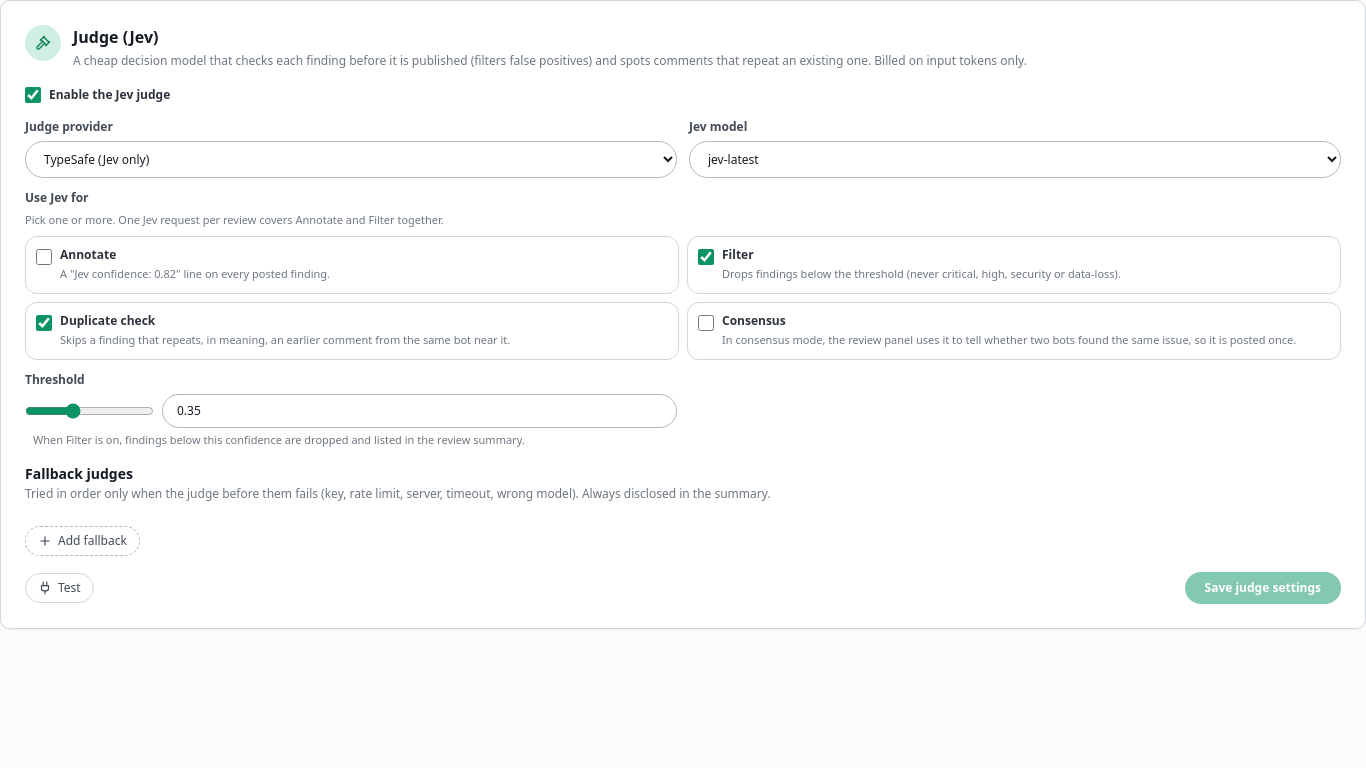
Test: JudgeCard (Jev) › offers only Jev models for the chosen provider, and only providers with a key plus the Jev-only types
Select "OpenCode Zen" in the dropdown labelled "Judge provider" at {"x": 351, "y": 159}, box left=25, top=140, right=677, bottom=178
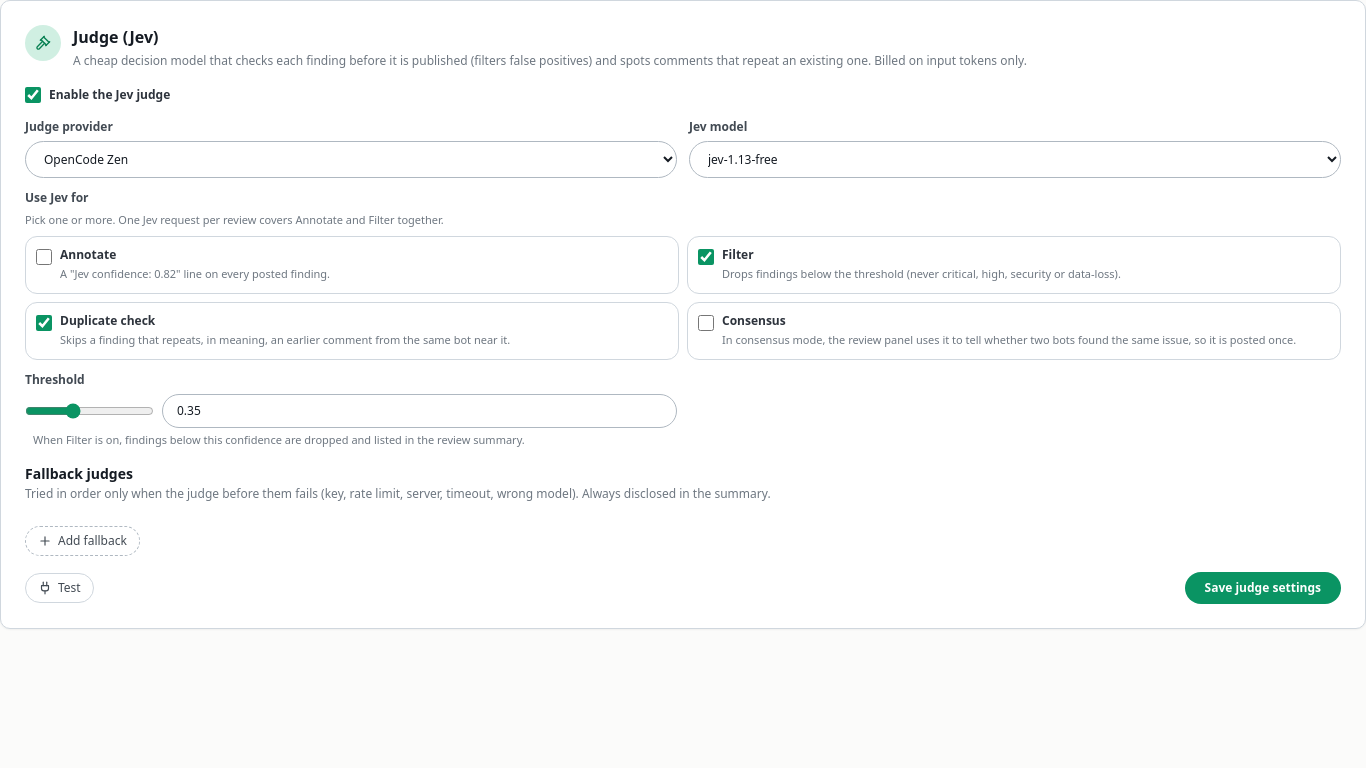
expect the dropdown labelled "Jev model" shows "jev-1.13-free": met, box left=689, top=140, right=1341, bottom=178
